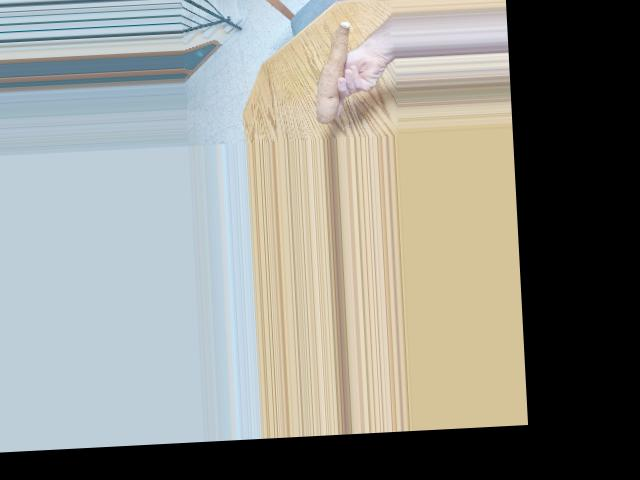sweet_potato: (304, 18, 355, 121)
